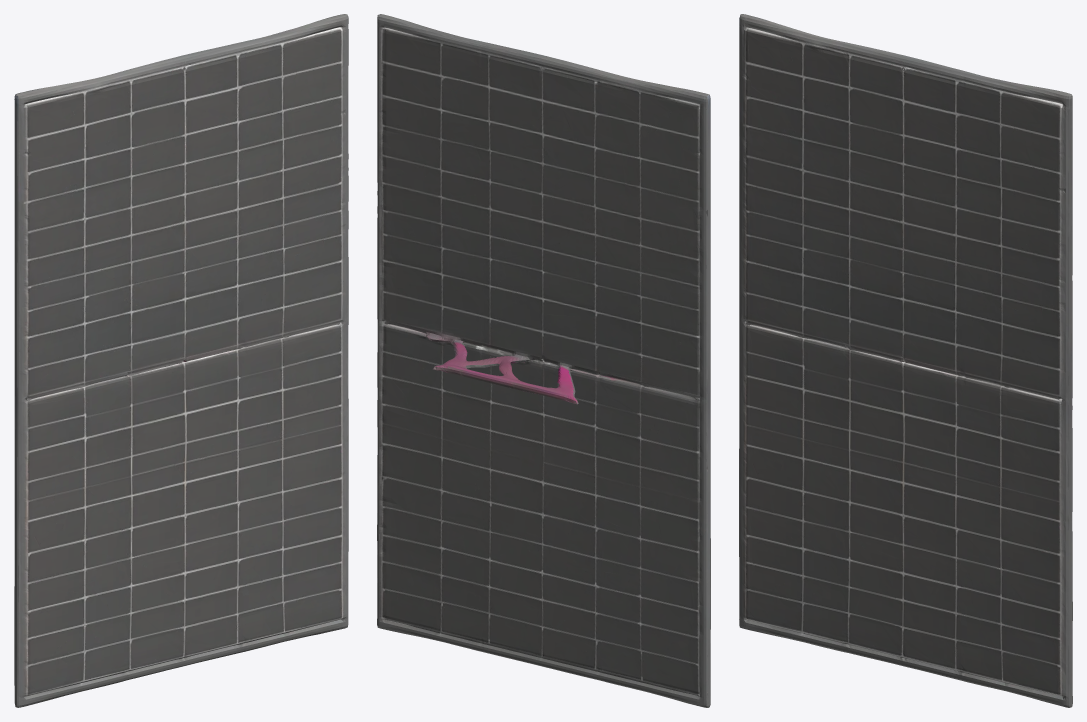
File: emcar-jinko-475.glb
3 renders of one model, left to right at view 1: azimuth 30°, elevation 25°; view 2: azimuth 150°, elevation 25°; view 3: azimuth 330°, elevation 25°, orthographic.
Visible parts, largest first — view 1: demo_textured.obj; view 2: demo_textured.obj; view 3: demo_textured.obj.
Part boxes in pixels (box(x1,y1,x2,y2)): demo_textured.obj: box(14, 14, 348, 707); demo_textured.obj: box(377, 14, 710, 707); demo_textured.obj: box(739, 14, 1072, 707).
Bounding box in the file's own units: 1.13 × 1.99 × 0.218.
1 material, 1 textured.
